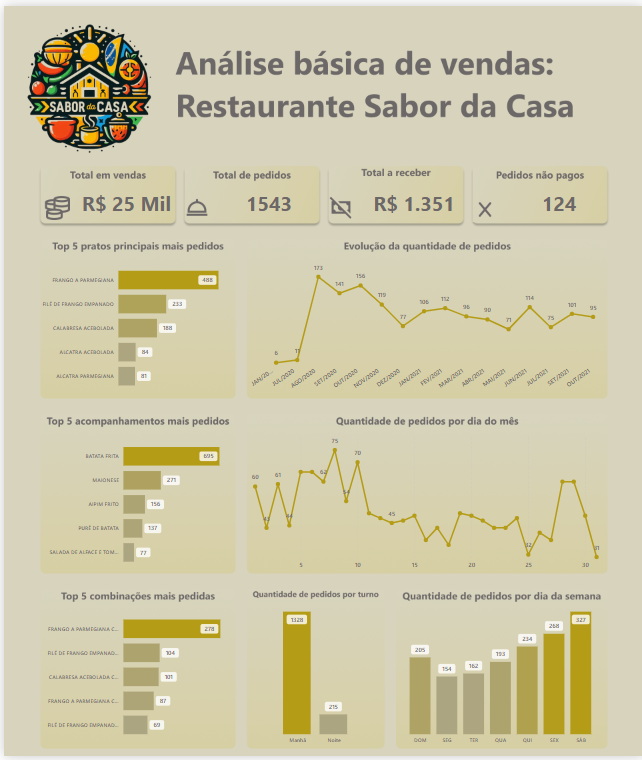

This screenshot's page, from the dashboard's own definition file:
{"tool":"powerbi","page":{"name":"Página 1","canvas":[1280,720],"ordinal":0},"visuals":[{"type":"card","fields":{"Values":["Sum(processed_data.total_venda)"]},"box":[478.8,26.2,393.8,113.8],"z":0},{"type":"card","fields":{"Values":["Sum(processed_data.valor_pendente)"]},"box":[925,13.8,300,147.5],"z":1000},{"type":"card","fields":{"Values":["CountNonNull(processed_data.quantidade)"]},"box":[958.8,115,300,133.8],"z":2000},{"type":"card","fields":{"Values":["Sum(processed_data.valor_frete)"]},"box":[686.2,182.5,393.8,125],"z":3000},{"type":"clusteredBarChart","fields":{"Category":["dim_prato.prato_principal"],"Y":["Sum(processed_data.quantidade)"]},"box":[26.3,26.3,428.7,248.7],"z":4000},{"type":"clusteredBarChart","fields":{"Category":["dim_acompanhamento.acompanhamento"],"Y":["Sum(processed_data.quantidade)"]},"box":[63.8,278.8,405,241.2],"z":5000},{"type":"card","fields":{"Values":["CountNonNull(processed_data.quantidade)"]},"box":[561.2,95,300,112.5],"z":6000},{"type":"clusteredColumnChart","fields":{"Y":["CountNonNull(processed_data.quantidade)"],"Category":["processed_data.turno"]},"box":[63.8,518.8,300,201.2],"z":7000},{"type":"lineChart","fields":{"Y":["CountNonNull(processed_data.quantidade)"],"Category":["dCalendario.mes_nome_ano"]},"box":[512.5,466.2,721.2,228.8],"z":8000},{"type":"lineChart","fields":{"Y":["CountNonNull(processed_data.quantidade)"],"Category":["dCalendario.dia"]},"box":[487.5,351.2,792.5,228.8],"z":9000},{"type":"clusteredBarChart","fields":{"Y":["Sum(processed_data.quantidade)"],"Category":["processed_data.prato"]},"box":[487.5,197.5,428.8,248.8],"z":9001}]}

Visuals, with their boxes on the page's 1280x720 design canvas (x1, y1, x2, y2). These are canvas units, not pixel positions in the 642x760 screenshot, which may show the page scaled, cropped or inside an application window:
card - Sum(processed_data.total_venda): bbox(479, 26, 873, 140)
card - Sum(processed_data.valor_pendente): bbox(925, 14, 1225, 161)
card - CountNonNull(processed_data.quantidade): bbox(959, 115, 1259, 249)
card - Sum(processed_data.valor_frete): bbox(686, 182, 1080, 308)
clusteredBarChart - dim_prato.prato_principal x Sum(processed_data.quantidade): bbox(26, 26, 455, 275)
clusteredBarChart - dim_acompanhamento.acompanhamento x Sum(processed_data.quantidade): bbox(64, 279, 469, 520)
card - CountNonNull(processed_data.quantidade): bbox(561, 95, 861, 208)
clusteredColumnChart - CountNonNull(processed_data.quantidade) x processed_data.turno: bbox(64, 519, 364, 720)
lineChart - CountNonNull(processed_data.quantidade) x dCalendario.mes_nome_ano: bbox(512, 466, 1234, 695)
lineChart - CountNonNull(processed_data.quantidade) x dCalendario.dia: bbox(488, 351, 1280, 580)
clusteredBarChart - Sum(processed_data.quantidade) x processed_data.prato: bbox(488, 198, 916, 446)
